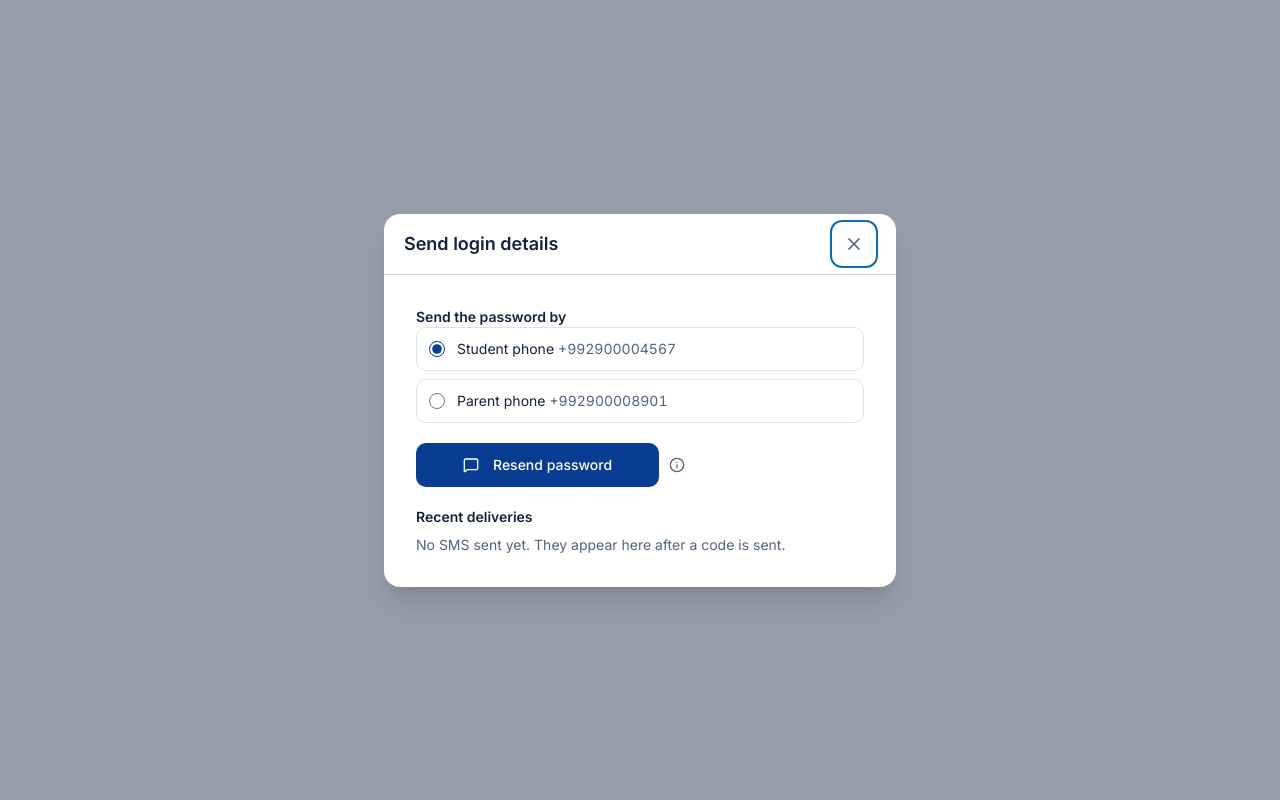
Test case: StudentPasswordSmsDialog resend › sends through the parent phone when it is chosen
Click the radio button labelled "Parent phone+992900008901" at (437, 400), box [429,392,445,408]
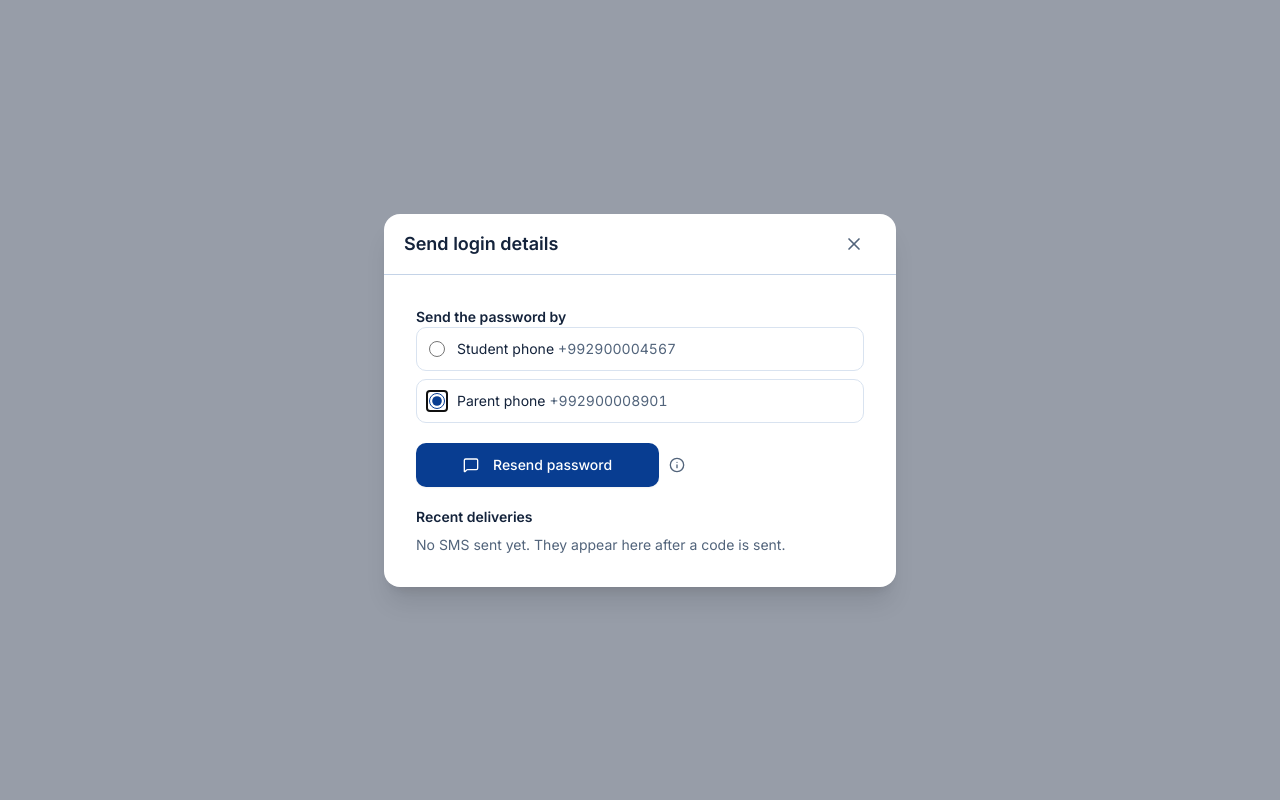
Click the button "Resend password" at (538, 464), box [416,442,659,486]
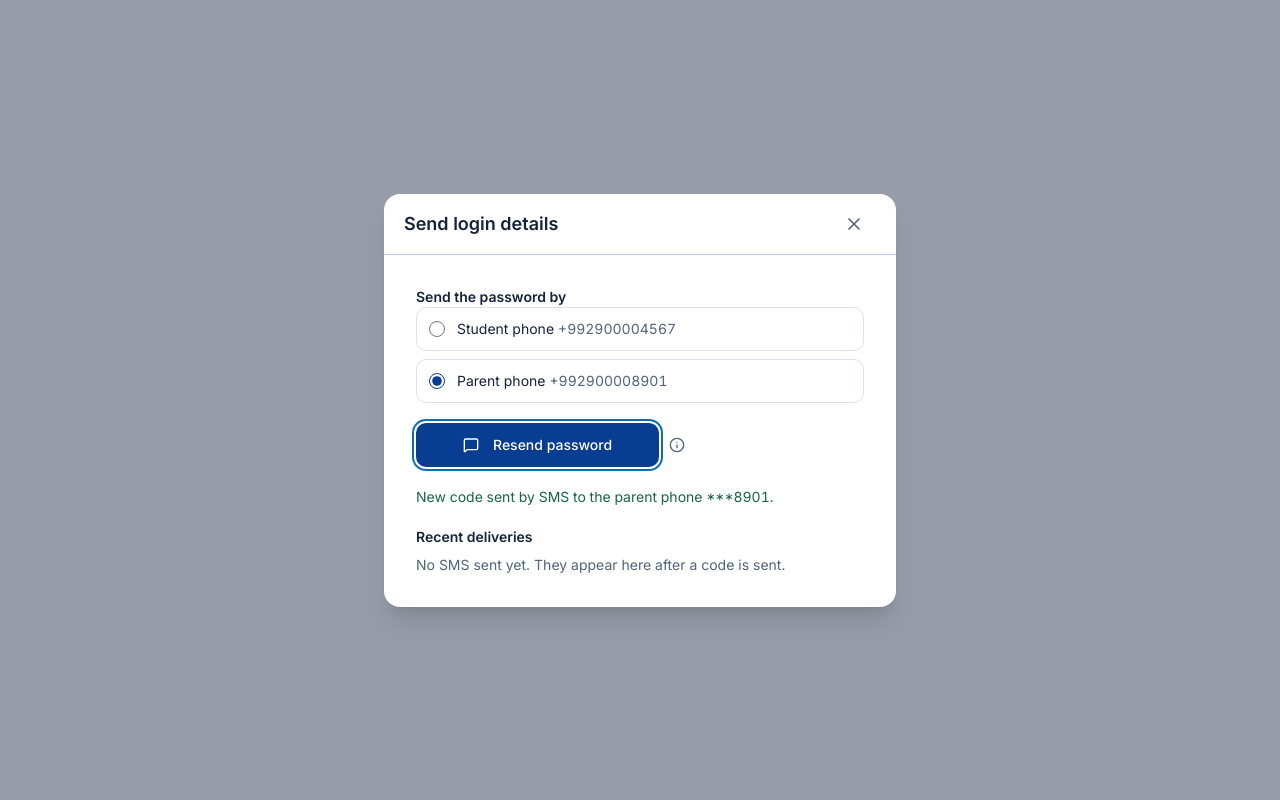
Now the text "New code sent by SMS to the parent phone ***8901." is shown, box [416,488,774,504]
